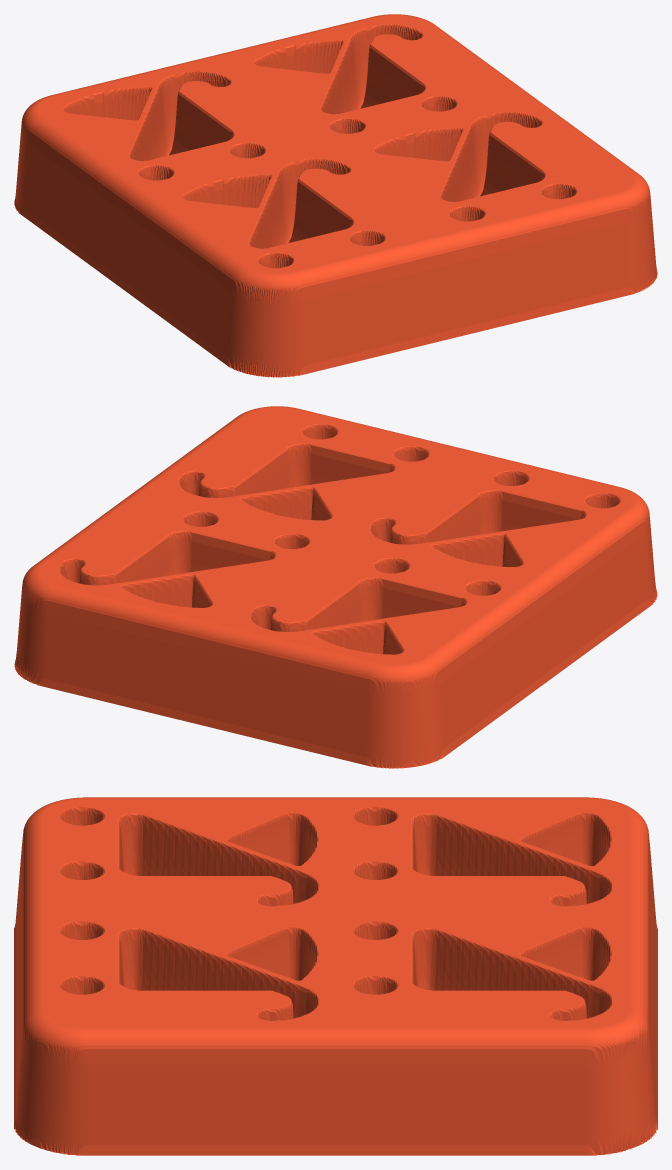
Rendered from mold.glb.
The picture shows the model from 3 angles, top to bottom: view 1: azimuth 30°, elevation 25°; view 2: azimuth 150°, elevation 25°; view 3: azimuth 270°, elevation 25°; orthographic projection. The views are drawn at different scales.
Parts seen in each view (by area): view 1: geometry_0; view 2: geometry_0; view 3: geometry_0.
Part boxes in pixels (<box>): geometry_0: <box>14,14,657,377</box>; geometry_0: <box>14,406,657,768</box>; geometry_0: <box>14,797,657,1155</box>.
Bounding box in the file's own units: 0.0752 × 0.0159 × 0.0808.
